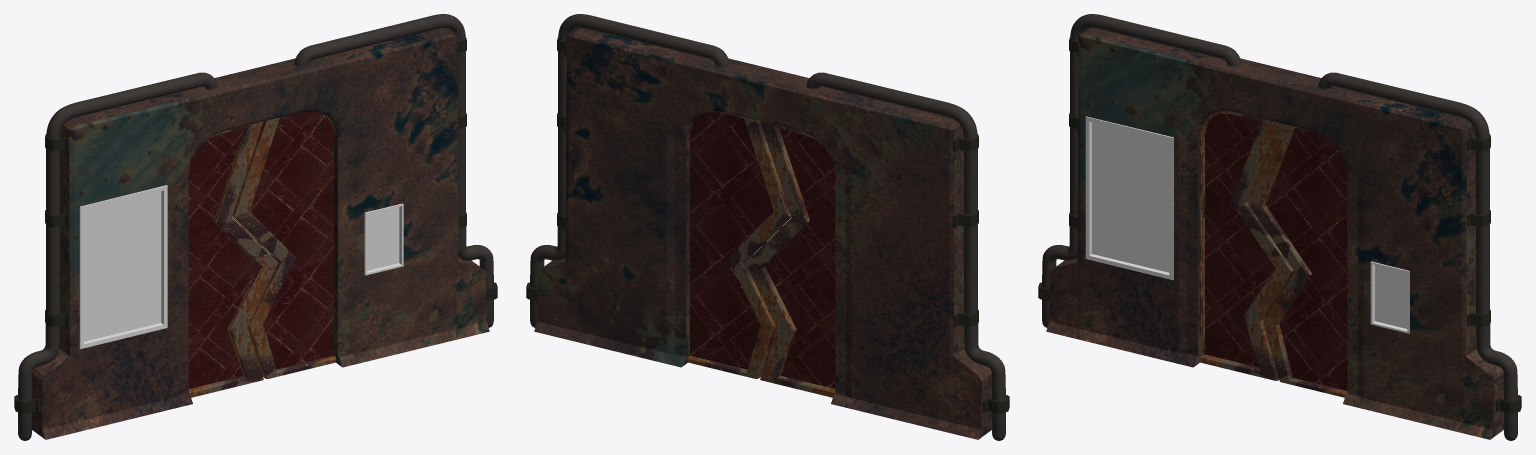
Rendered from Mdl.PirateDoor.fbx.
3 renders of one model, left to right at view 1: azimuth 30°, elevation 25°; view 2: azimuth 150°, elevation 25°; view 3: azimuth 330°, elevation 25°, orthographic.
Visible parts, largest first — view 1: DoorFrame.003, Plane.002, Plane.005, Plane.007, Circle, Plane.008, Plane.006; view 2: DoorFrame.003, Plane.002, Plane.005, Circle, Plane.006; view 3: DoorFrame.003, Plane.002, Plane.005, Plane.007, Circle, Plane.008, Plane.006.
Boxes of the visible parts, x1,y1,x2,y2 form: DoorFrame.003: (32, 28, 489, 439); Plane.002: (232, 111, 336, 378); Plane.005: (188, 121, 278, 397); Plane.007: (79, 185, 167, 349); Circle: (18, 14, 493, 440); Plane.008: (364, 203, 403, 275); Plane.006: (14, 38, 497, 413); DoorFrame.003: (534, 28, 991, 439); Plane.002: (687, 111, 791, 378); Plane.005: (745, 121, 835, 397); Circle: (530, 14, 1005, 440); Plane.006: (526, 38, 1009, 413); DoorFrame.003: (1046, 28, 1503, 439); Plane.002: (1248, 123, 1347, 397); Plane.005: (1199, 111, 1294, 380); Plane.007: (1085, 116, 1173, 280); Circle: (1042, 14, 1517, 440); Plane.008: (1370, 261, 1409, 333); Plane.006: (1038, 38, 1521, 413).
Size of the model in its own units: 707 by 456 by 60.6.
